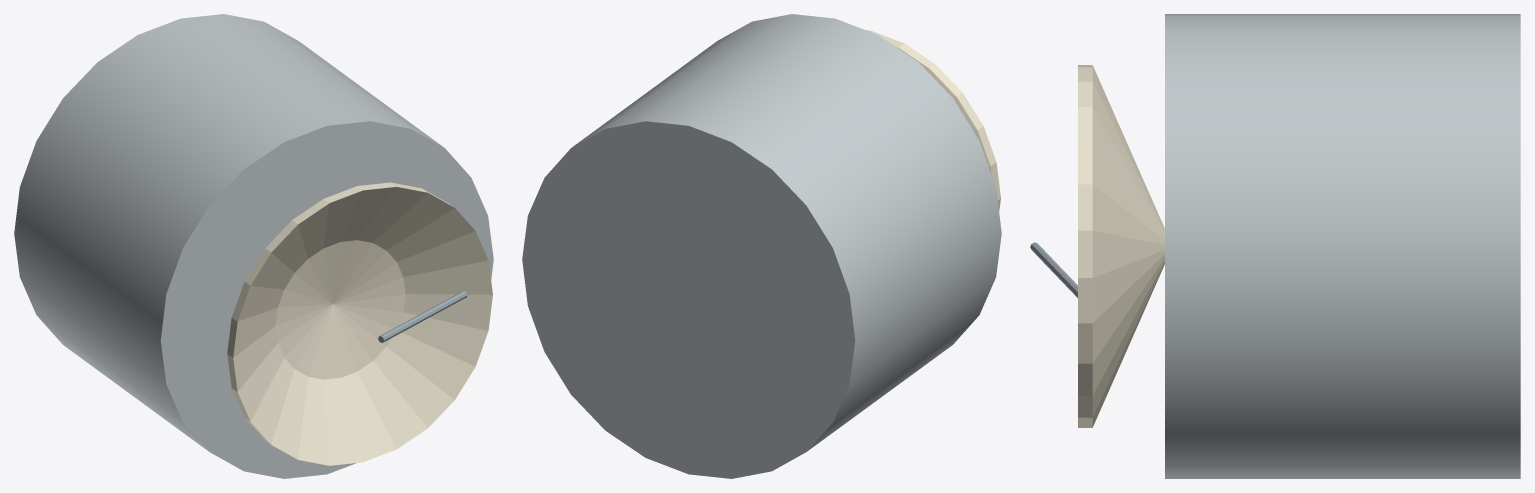
The model's file is ref-dfh-2-14670.glb.
3 renders of one model, left to right at view 1: azimuth 30°, elevation 25°; view 2: azimuth 150°, elevation 25°; view 3: azimuth 270°, elevation 25°, orthographic. The views are drawn at different scales.
Visible parts, largest first — view 1: Spacecraft body, Reflector dish, Feed support; view 2: Spacecraft body, Reflector dish; view 3: Spacecraft body, Reflector dish, Feed support.
Boxes of the visible parts, x1=… form: Spacecraft body: x1=14, y1=14, x2=493, y2=478; Reflector dish: x1=227, y1=182, x2=492, y2=465; Feed support: x1=378, y1=291, x2=467, y2=342; Spacecraft body: x1=522, y1=14, x2=1001, y2=478; Reflector dish: x1=866, y1=30, x2=1000, y2=211; Spacecraft body: x1=1165, y1=14, x2=1520, y2=478; Reflector dish: x1=1078, y1=65, x2=1164, y2=427; Feed support: x1=1030, y1=242, x2=1077, y2=297.
Bounding box in the file's own units: 2.1 × 2.1 × 2.21.
